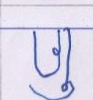u_matra: (29, 79, 79, 100)
